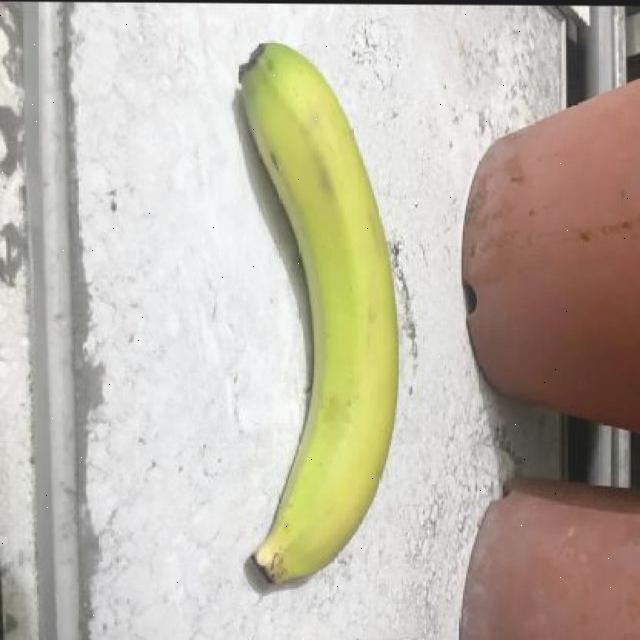banana: (220, 28, 406, 594)
